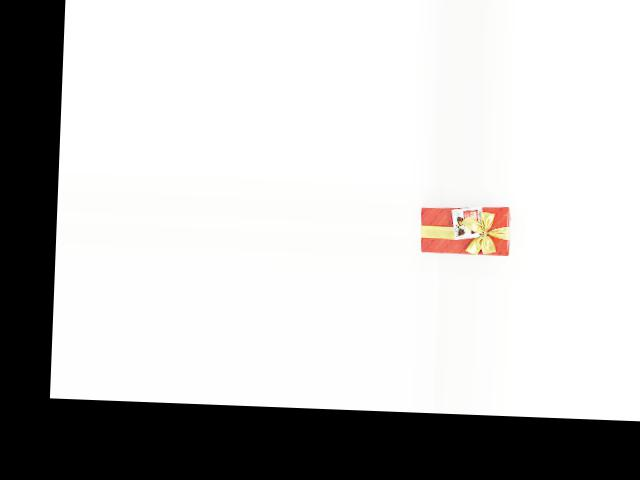chocolate: (420, 204, 514, 260)
